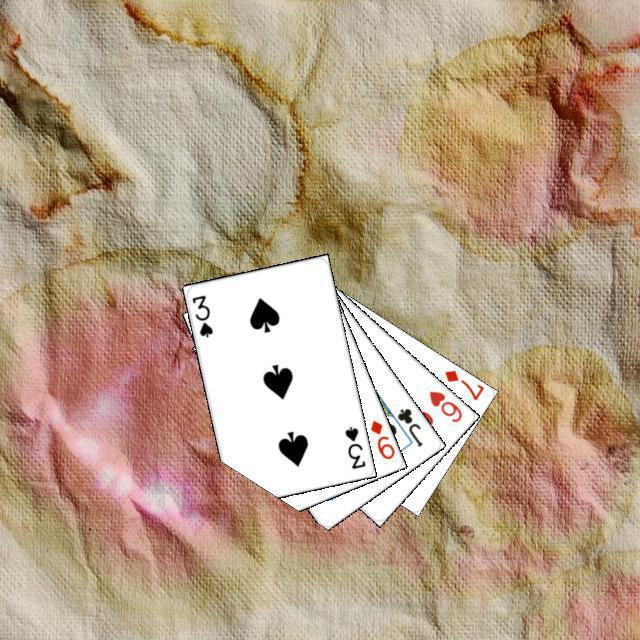3s: (187, 290, 215, 339), (340, 421, 367, 470)
6h: (424, 386, 464, 424)
7d: (439, 365, 485, 402)
9d: (365, 415, 396, 461)
Jc: (392, 403, 424, 449)
